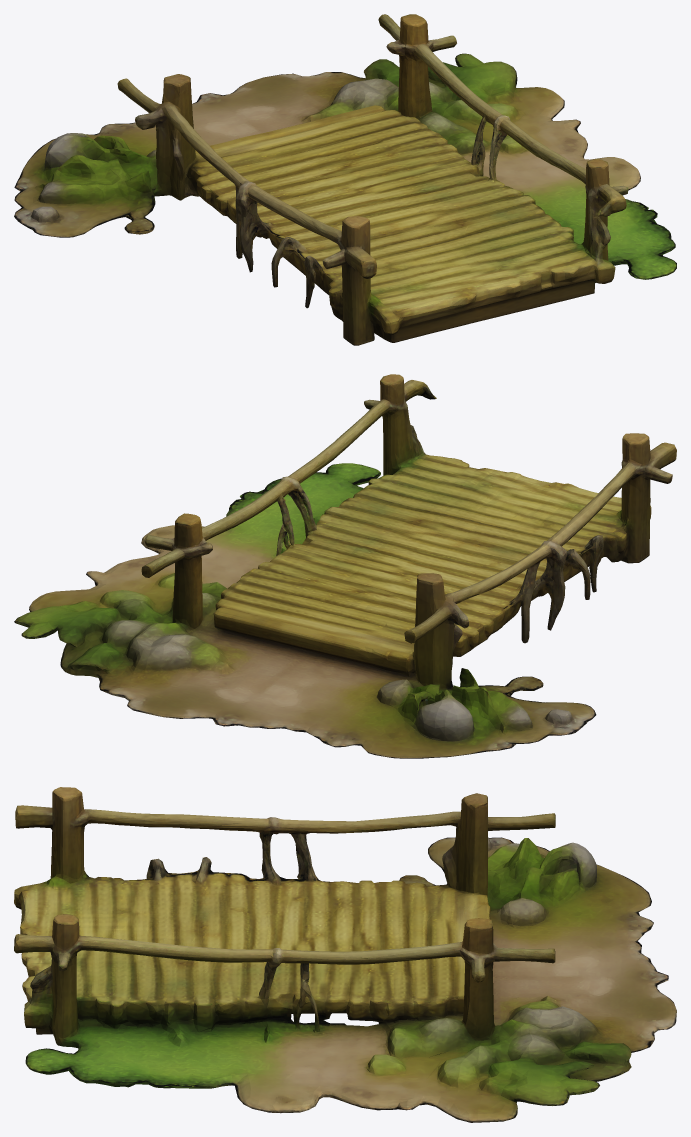
Rendered from cautre.glb.
3 views of the same model, one above another, from view 1: azimuth 30°, elevation 25°; view 2: azimuth 150°, elevation 25°; view 3: azimuth 270°, elevation 25° (orthographic). The views are drawn at different scales.
Parts seen in each view (by area): view 1: world; view 2: world; view 3: world.
Boxes of the visible parts, x1=… form: world: x1=14, y1=14, x2=676, y2=345; world: x1=14, y1=374, x2=676, y2=758; world: x1=14, y1=787, x2=676, y2=1122.
Bounding box in the file's own units: 1 × 0.2136 × 0.9987.
1 material, 1 textured.
